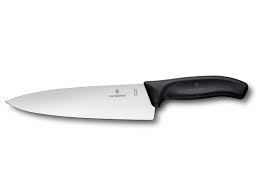kuchillu: (4, 72, 251, 127)
